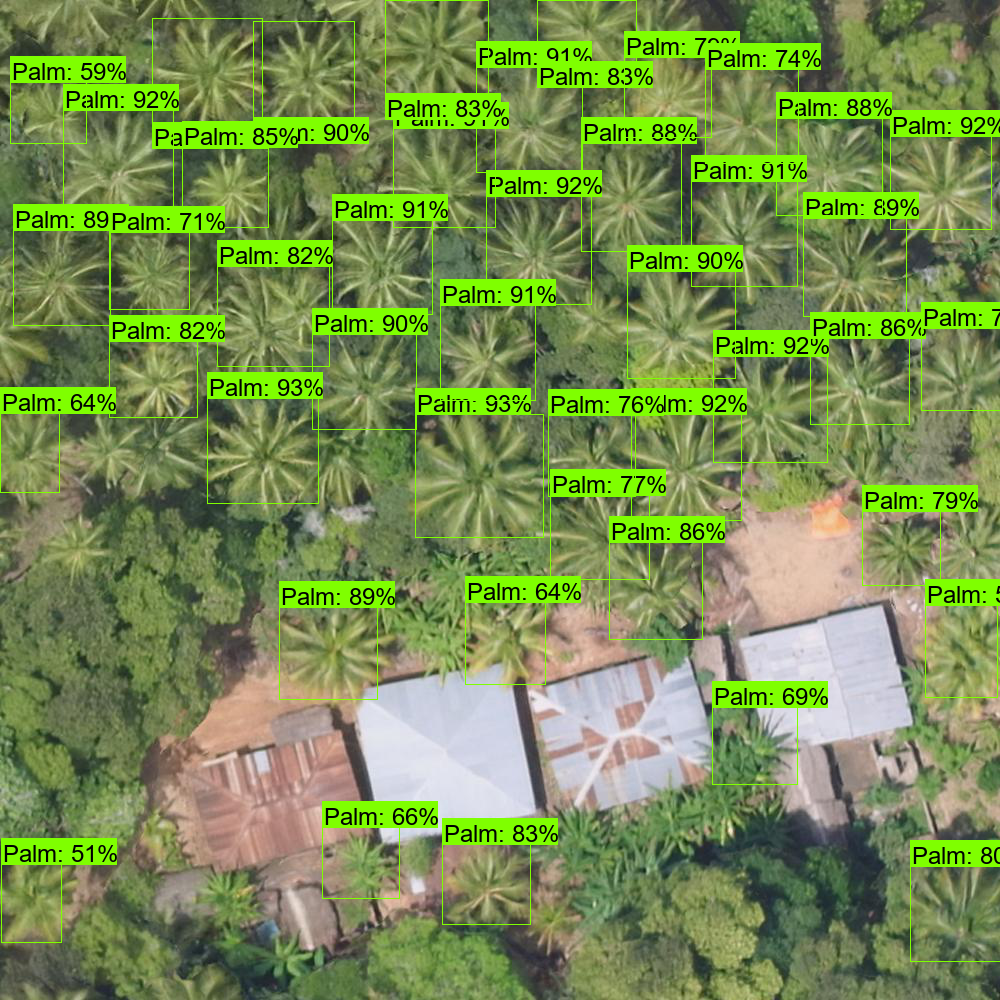not palm: (861, 16, 963, 99), (214, 711, 301, 807), (742, 533, 834, 622), (117, 591, 212, 677), (391, 725, 487, 807), (1, 611, 87, 697), (705, 876, 791, 959), (7, 713, 94, 795), (555, 701, 636, 783), (105, 694, 190, 772), (814, 916, 896, 992), (353, 928, 434, 1000), (787, 635, 863, 708), (302, 738, 371, 809)
